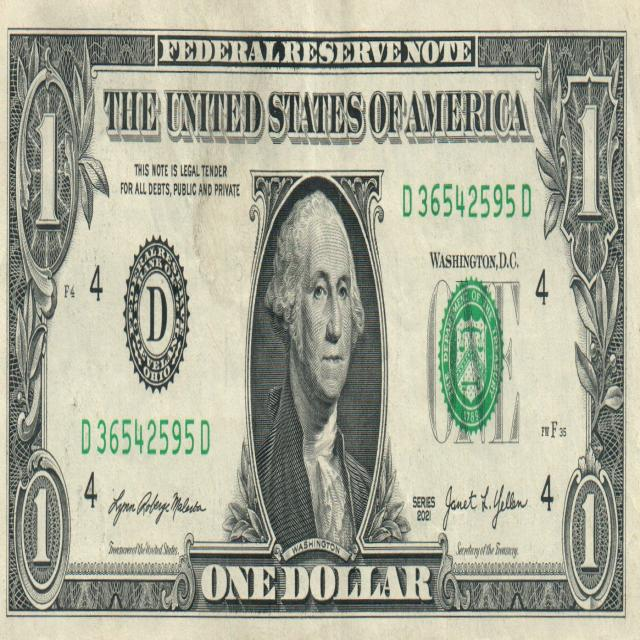SerialNumber: (82, 419, 210, 455), (403, 184, 531, 218)
